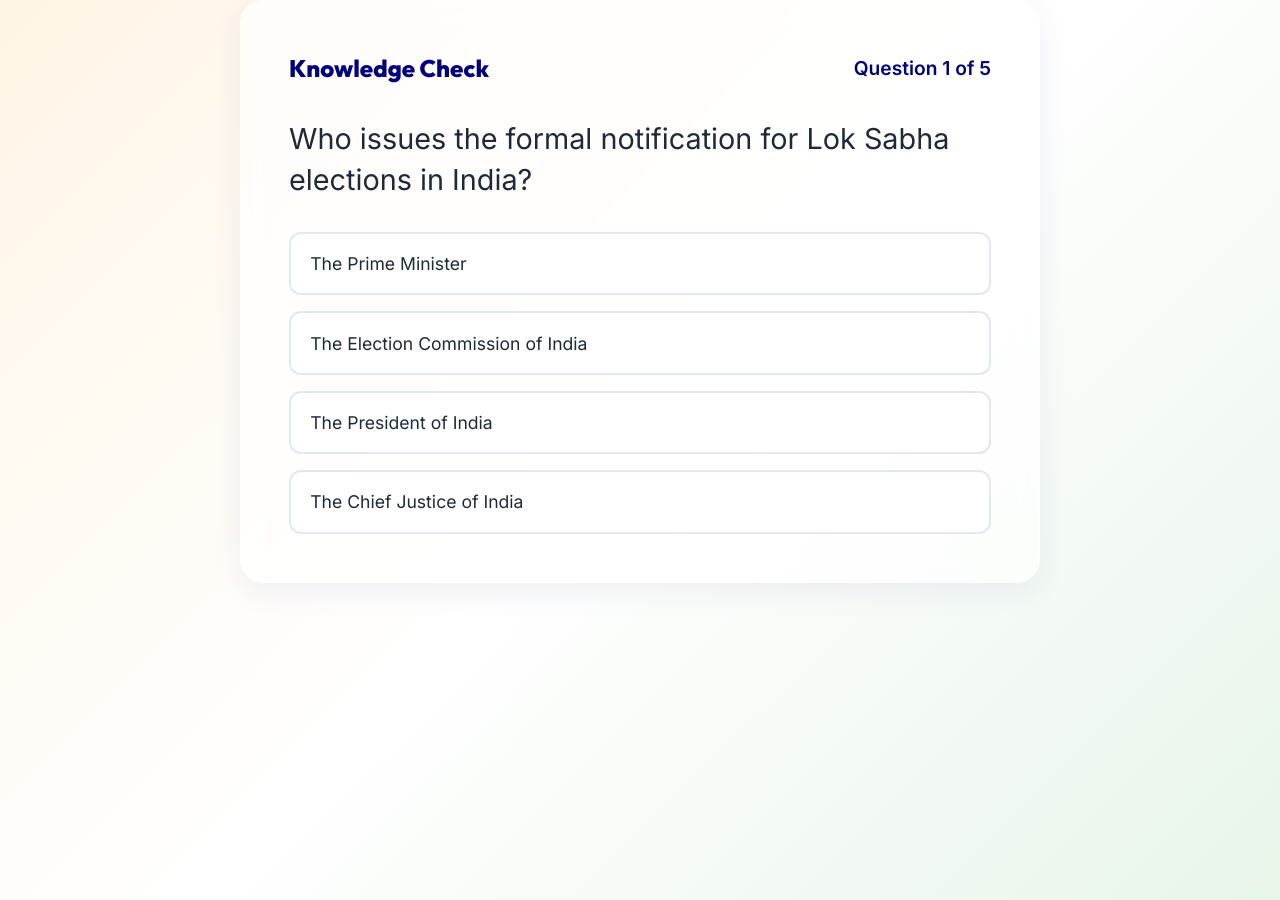
Test: Quiz Component › resets streak on incorrect answer
Click the radio button "The Prime Minister": (388, 264) [289, 232, 991, 295]
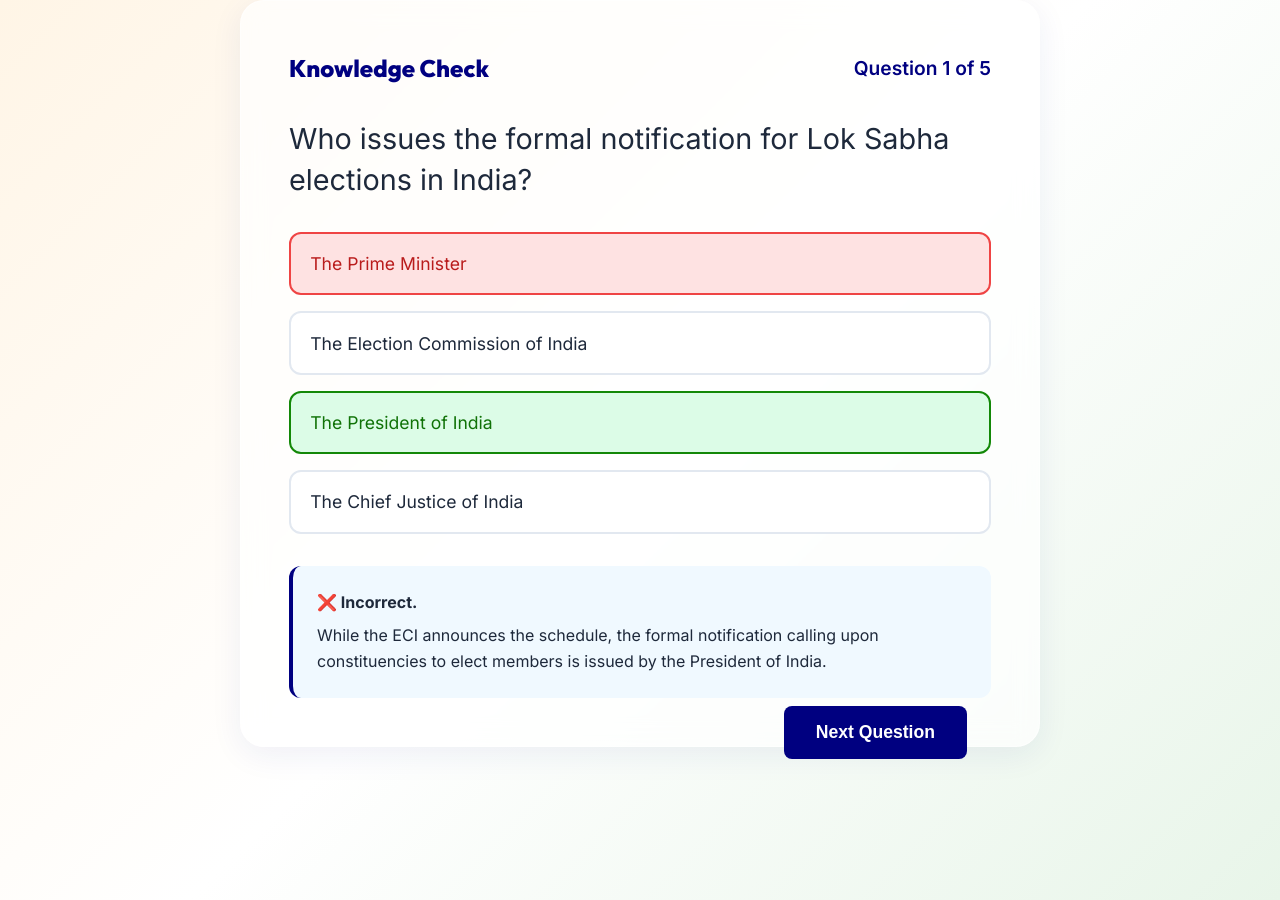
Check: the text "❌ Incorrect." is shown, box [317, 592, 417, 612]
